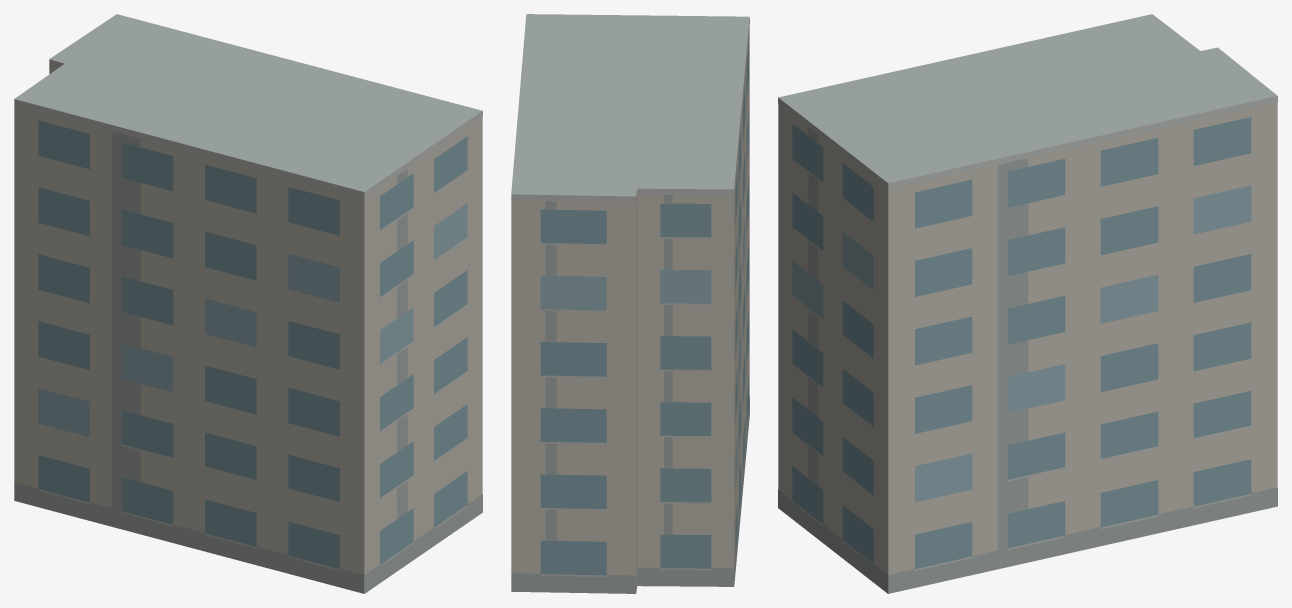
The model's file is survey-upis-32893318.glb.
3 renders of one model, left to right at view 1: azimuth 30°, elevation 25°; view 2: azimuth 150°, elevation 25°; view 3: azimuth 270°, elevation 25°, orthographic. The views are drawn at different scales.
Parts seen in each view (by area): view 1: survey-upis-32893318.tmp; view 2: survey-upis-32893318.tmp; view 3: survey-upis-32893318.tmp.
Part boxes in pixels (x1,y1,x2,y2): survey-upis-32893318.tmp: [14, 14, 482, 593]; survey-upis-32893318.tmp: [511, 14, 749, 593]; survey-upis-32893318.tmp: [778, 14, 1277, 593].
Size of the model in its own units: 13.88 by 15.7 by 17.32.
